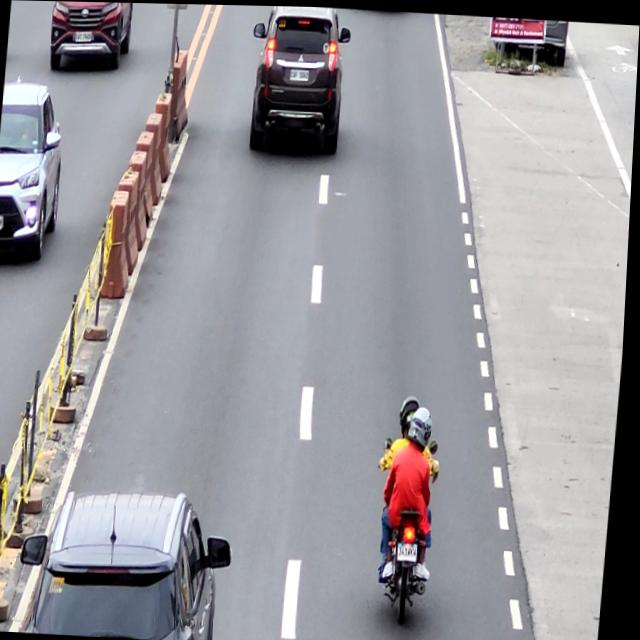Car: (21, 484, 241, 640), (244, 4, 353, 153)
License-Plate: (402, 539, 425, 560), (289, 67, 311, 80)
Motorcycle: (374, 432, 444, 623)
